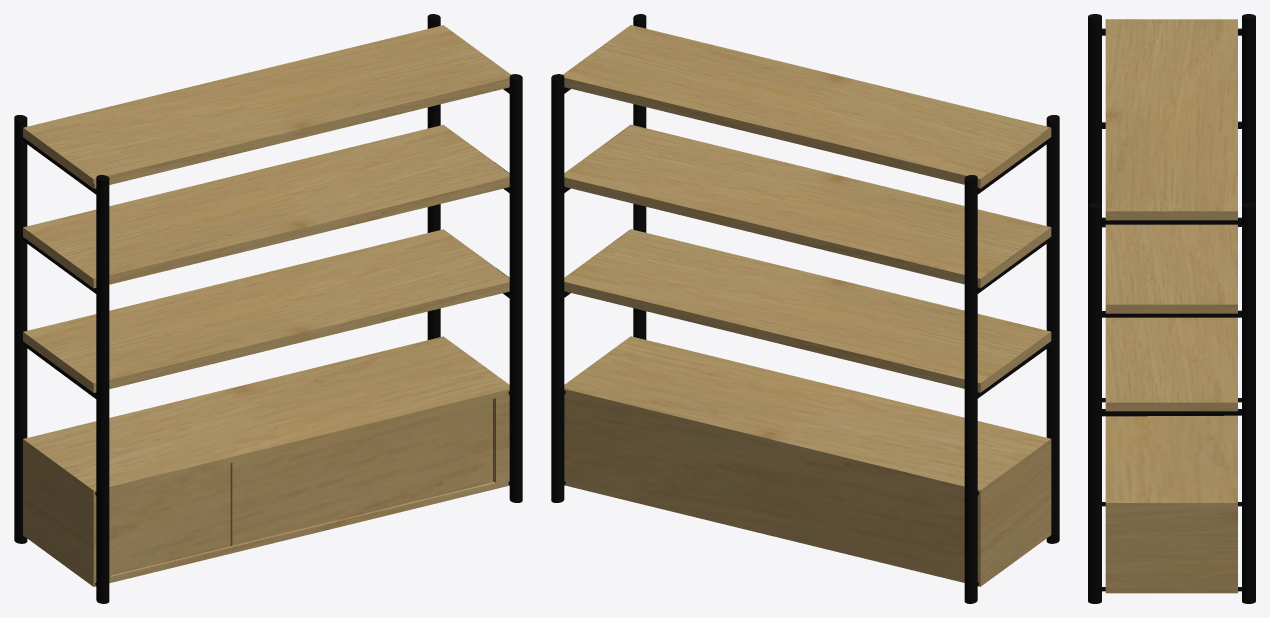
File: Shelf.fbx
3 renders of one model, left to right at view 1: azimuth 30°, elevation 25°; view 2: azimuth 150°, elevation 25°; view 3: azimuth 270°, elevation 25°, orthographic. The views are drawn at different scales.
Parts seen in each view (by area): view 1: Shelf; view 2: Shelf; view 3: Shelf.
Boxes of the visible parts, x1=… form: Shelf: x1=14, y1=14, x2=522, y2=603; Shelf: x1=551, y1=14, x2=1059, y2=603; Shelf: x1=1088, y1=14, x2=1255, y2=603.
Bounding box in the file's own units: 194 × 185 × 71.06.
